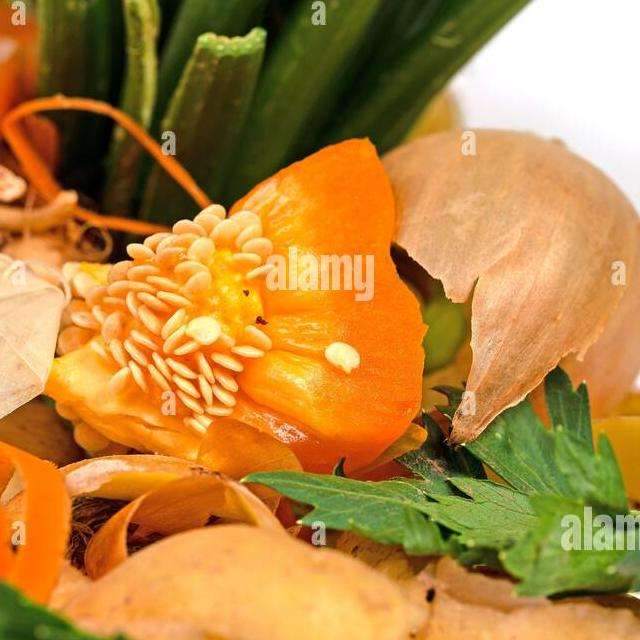food_waste: (35, 150, 424, 463), (399, 125, 640, 400), (1, 0, 563, 117), (86, 505, 354, 640), (380, 525, 640, 640), (0, 416, 134, 633)
